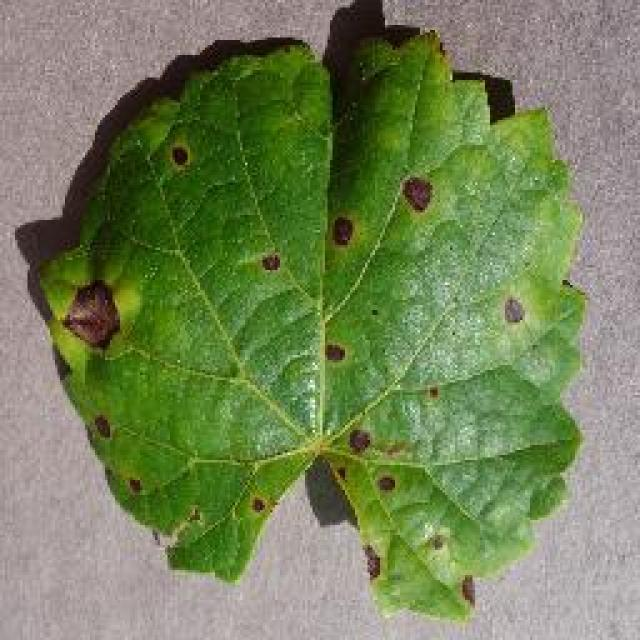Grape___Black_rot: (26, 24, 593, 625)
